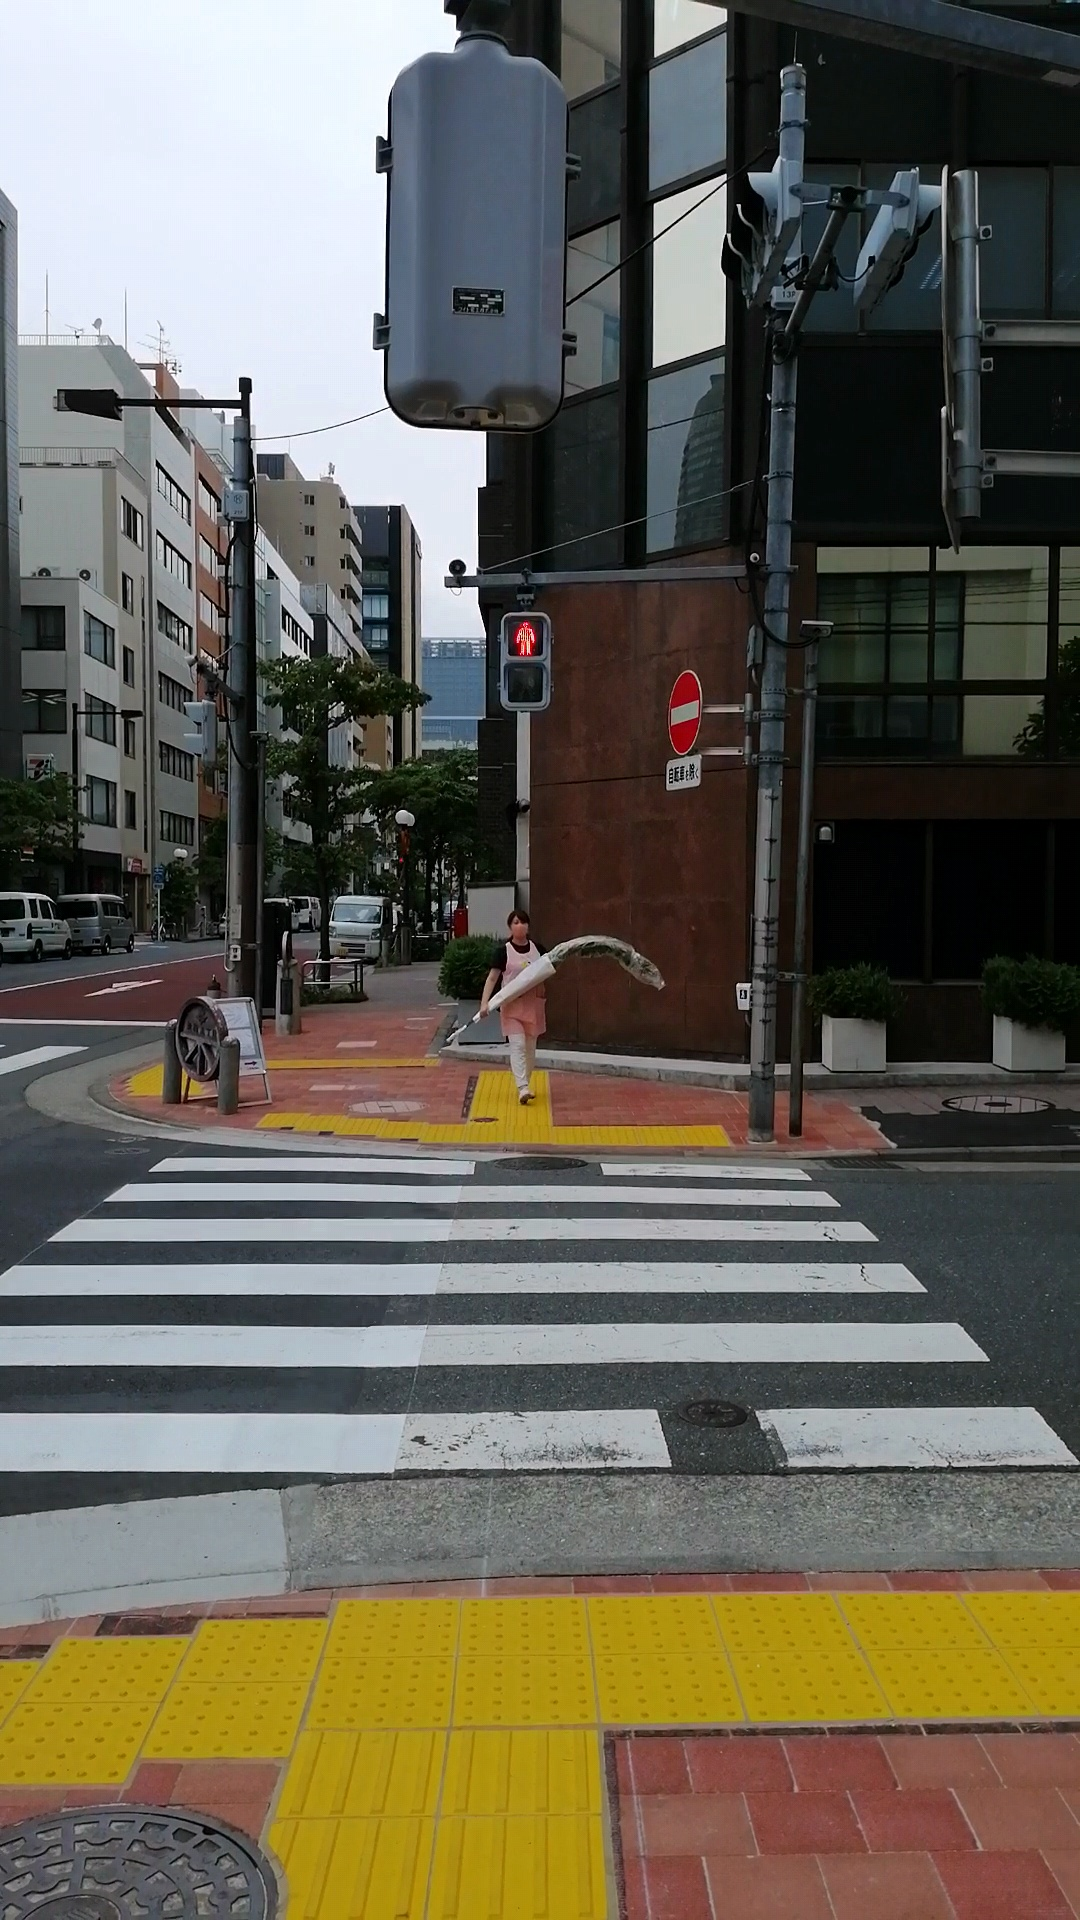red: (497, 612, 551, 712)
